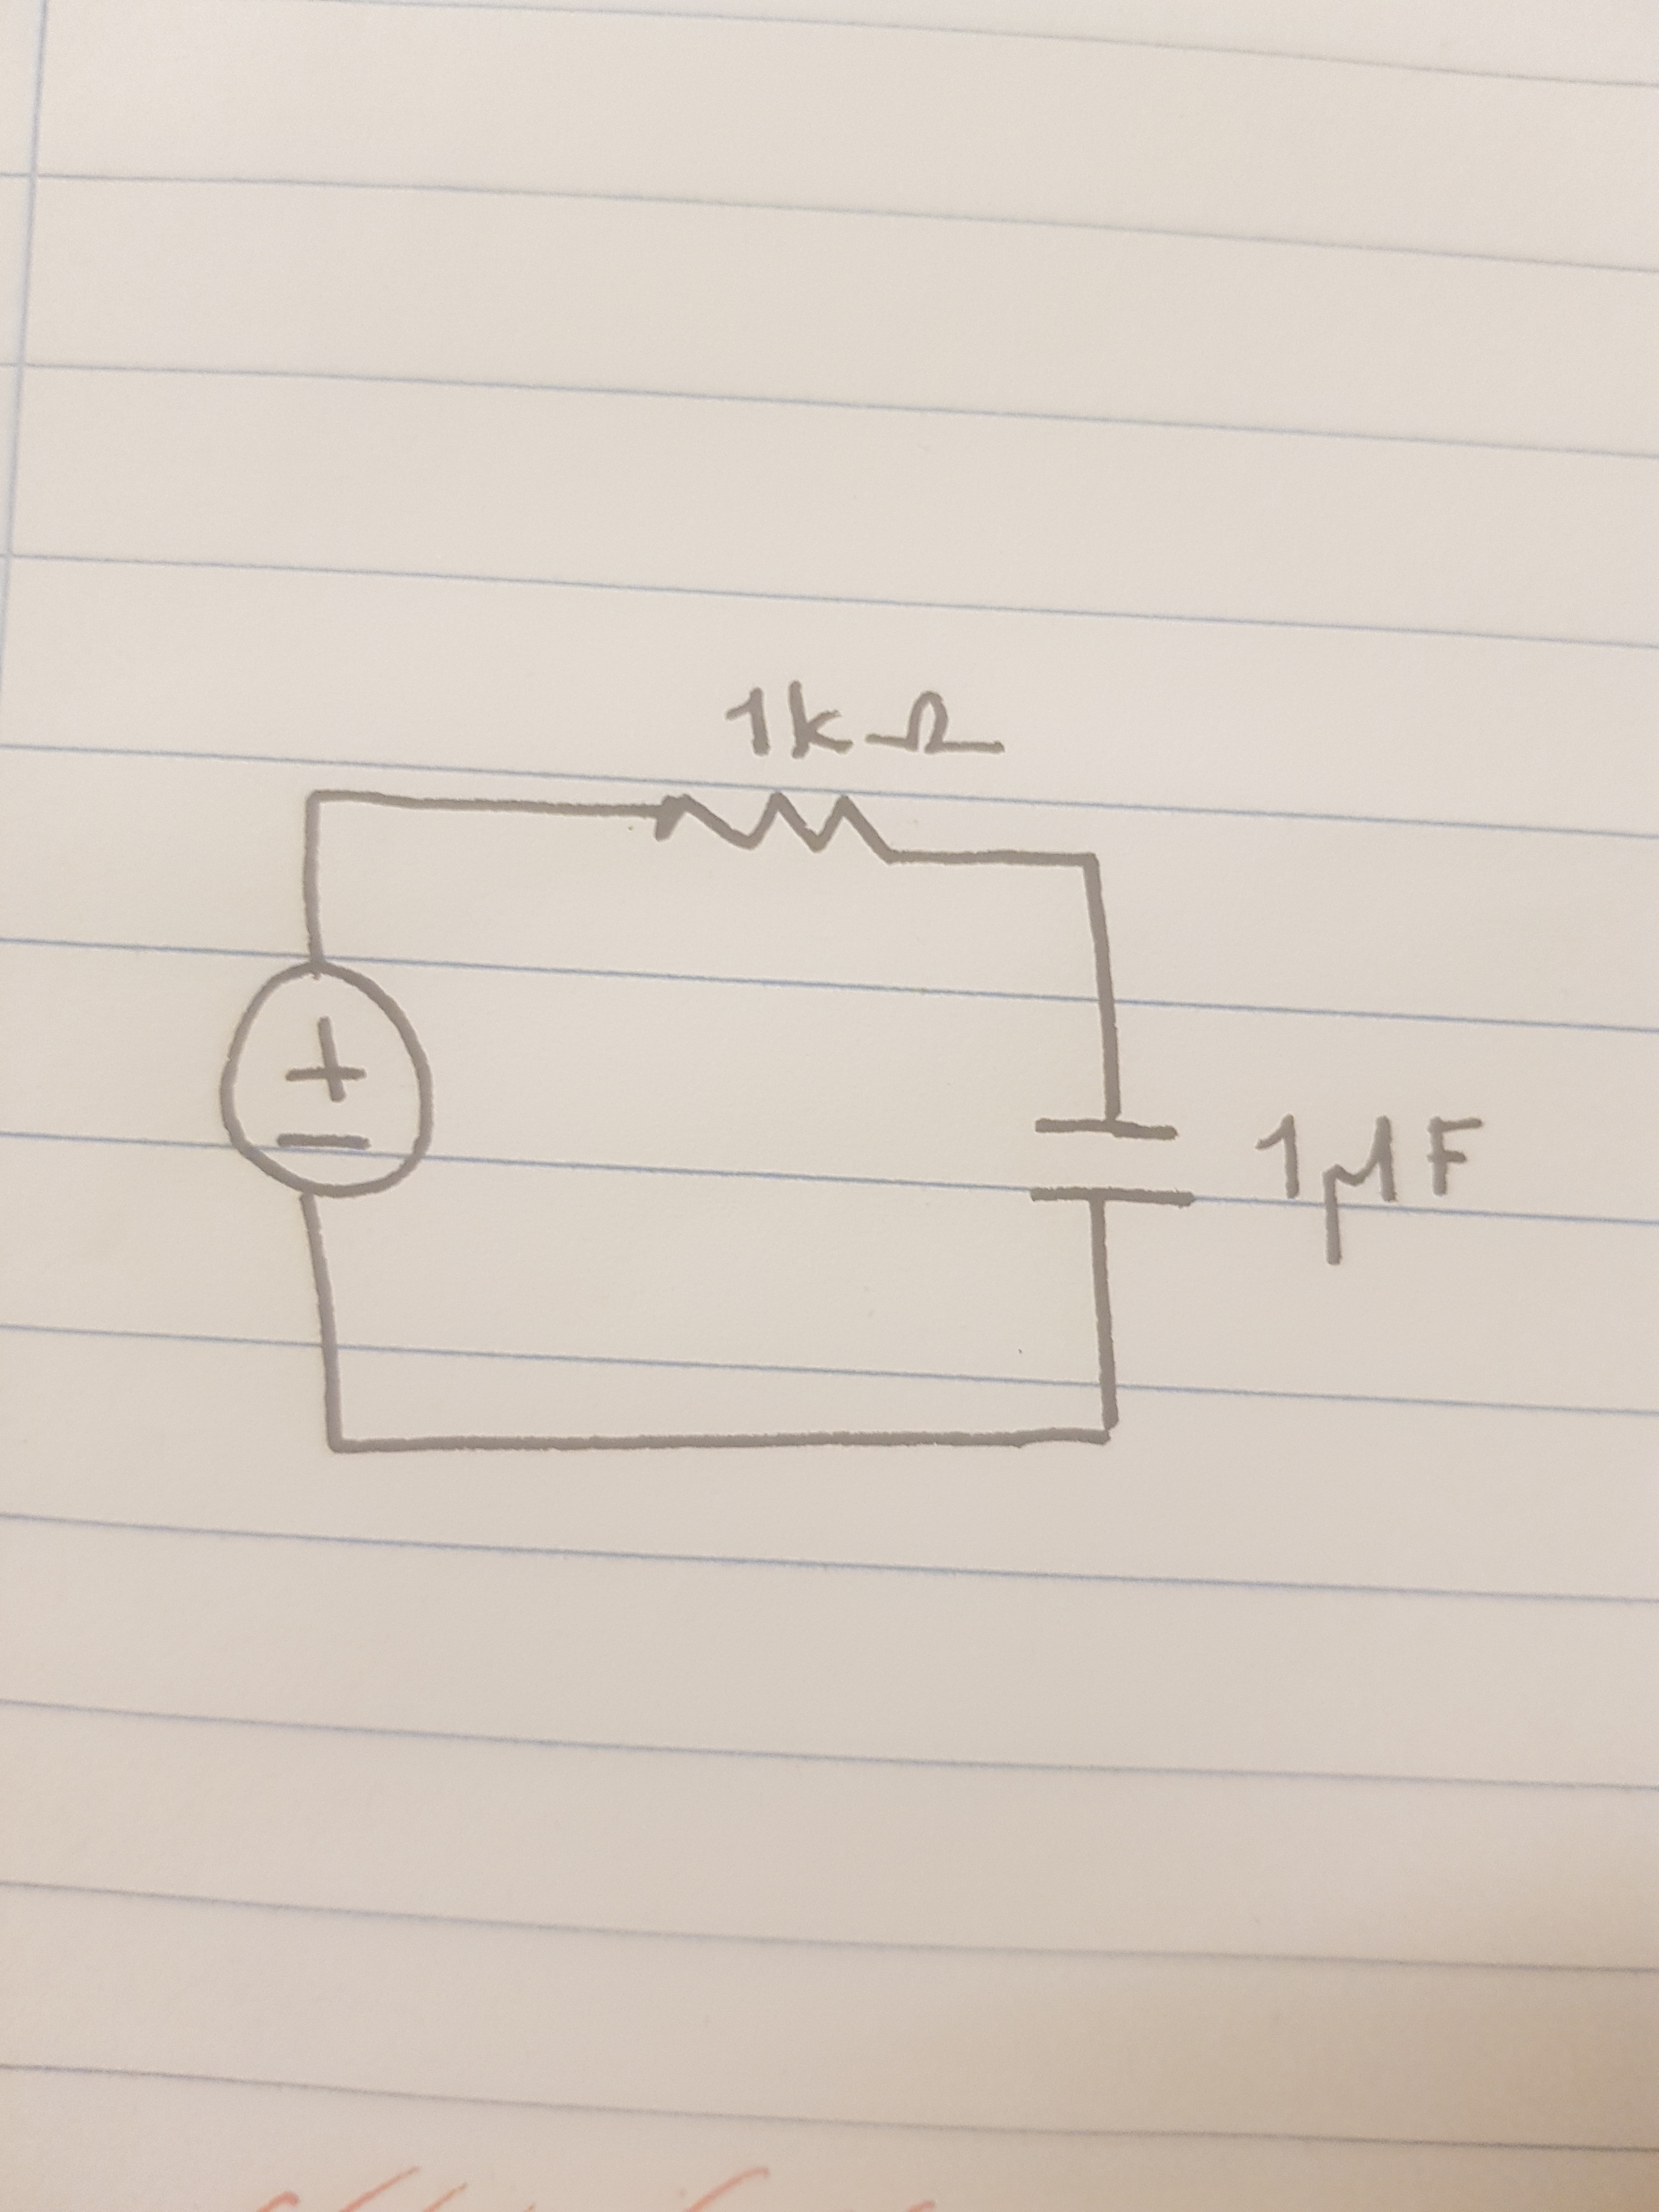capacitor.unpolarized: (1007, 1097, 1220, 1217)
junction: (1075, 1400, 1129, 1460), (308, 1416, 361, 1468), (1053, 843, 1112, 888), (296, 772, 347, 822)
resistor: (631, 768, 915, 888)
text: (1251, 1101, 1488, 1270), (721, 672, 1011, 780)
voltage.dc: (193, 958, 460, 1202)
